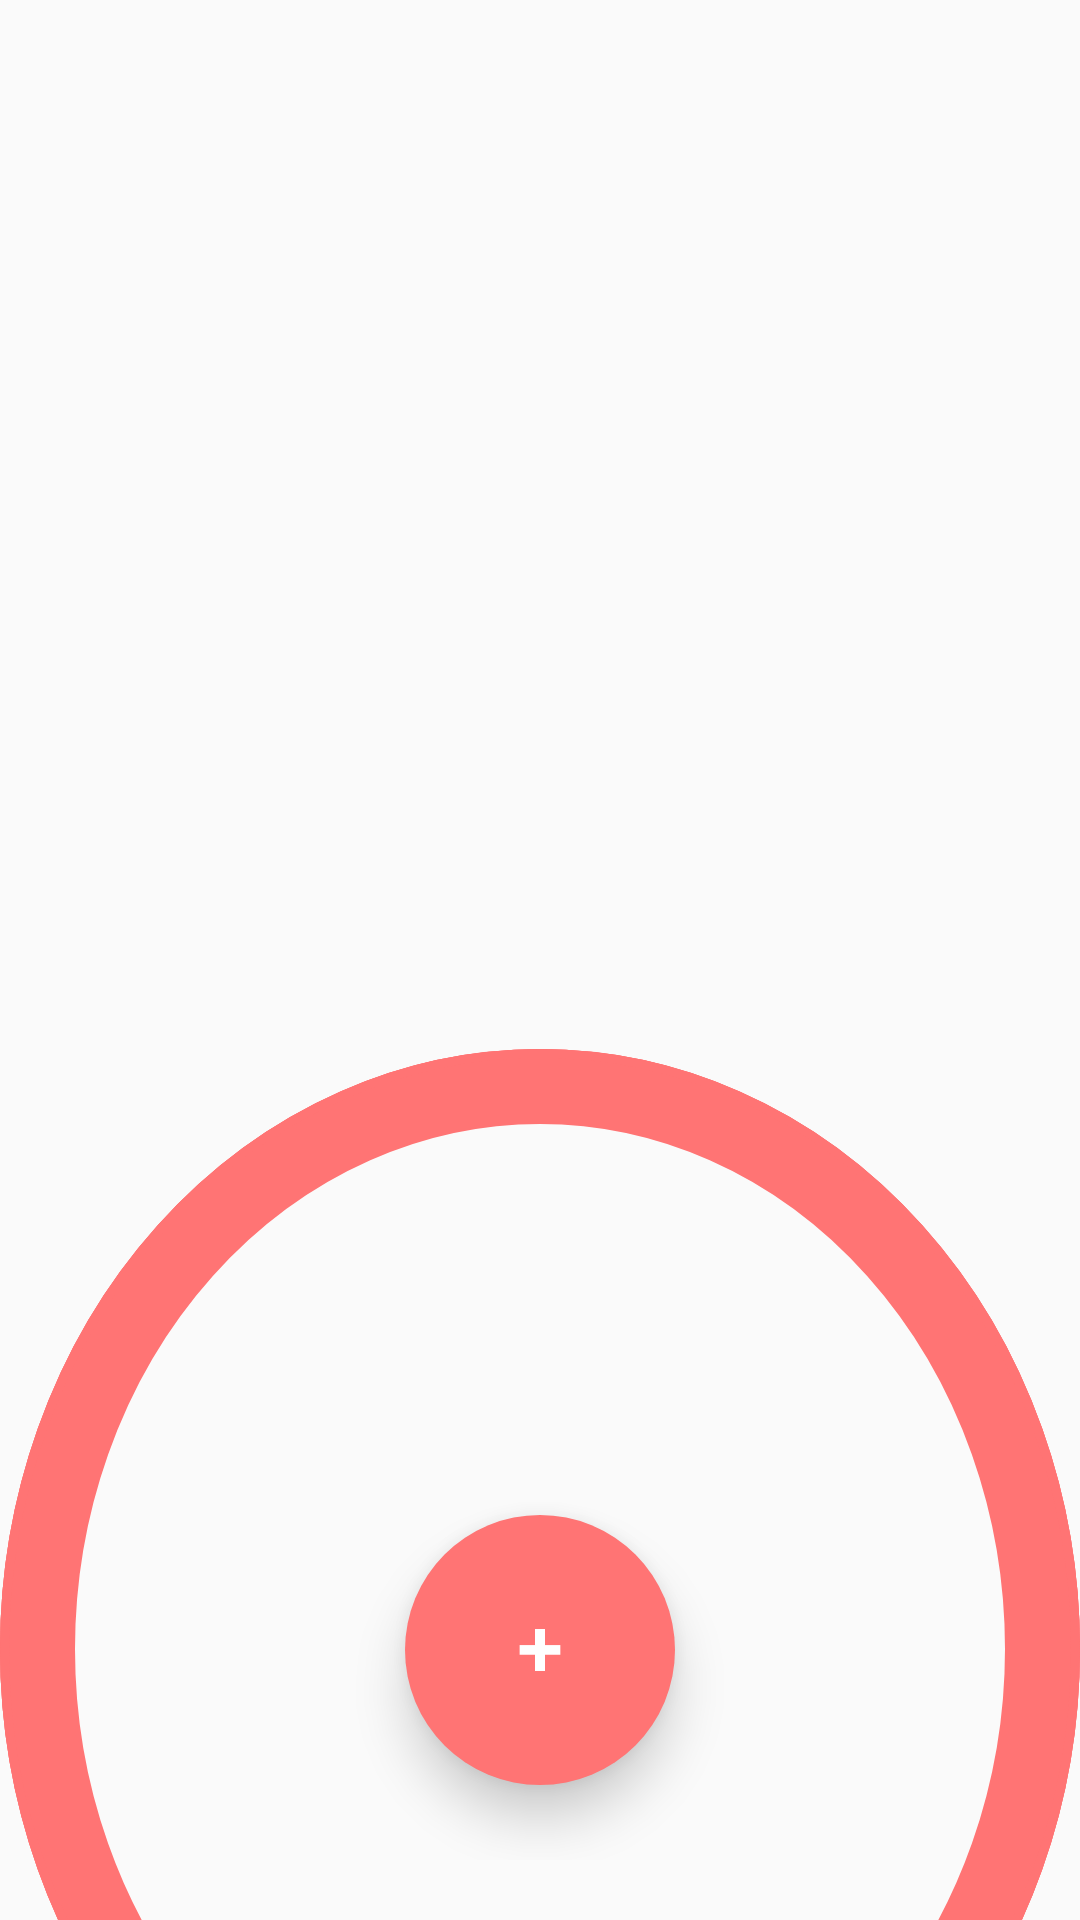

Where icons sit on this 1080x1920 app screen, as (x1, y1, x2, y2):
add: (519, 1629, 561, 1671)
